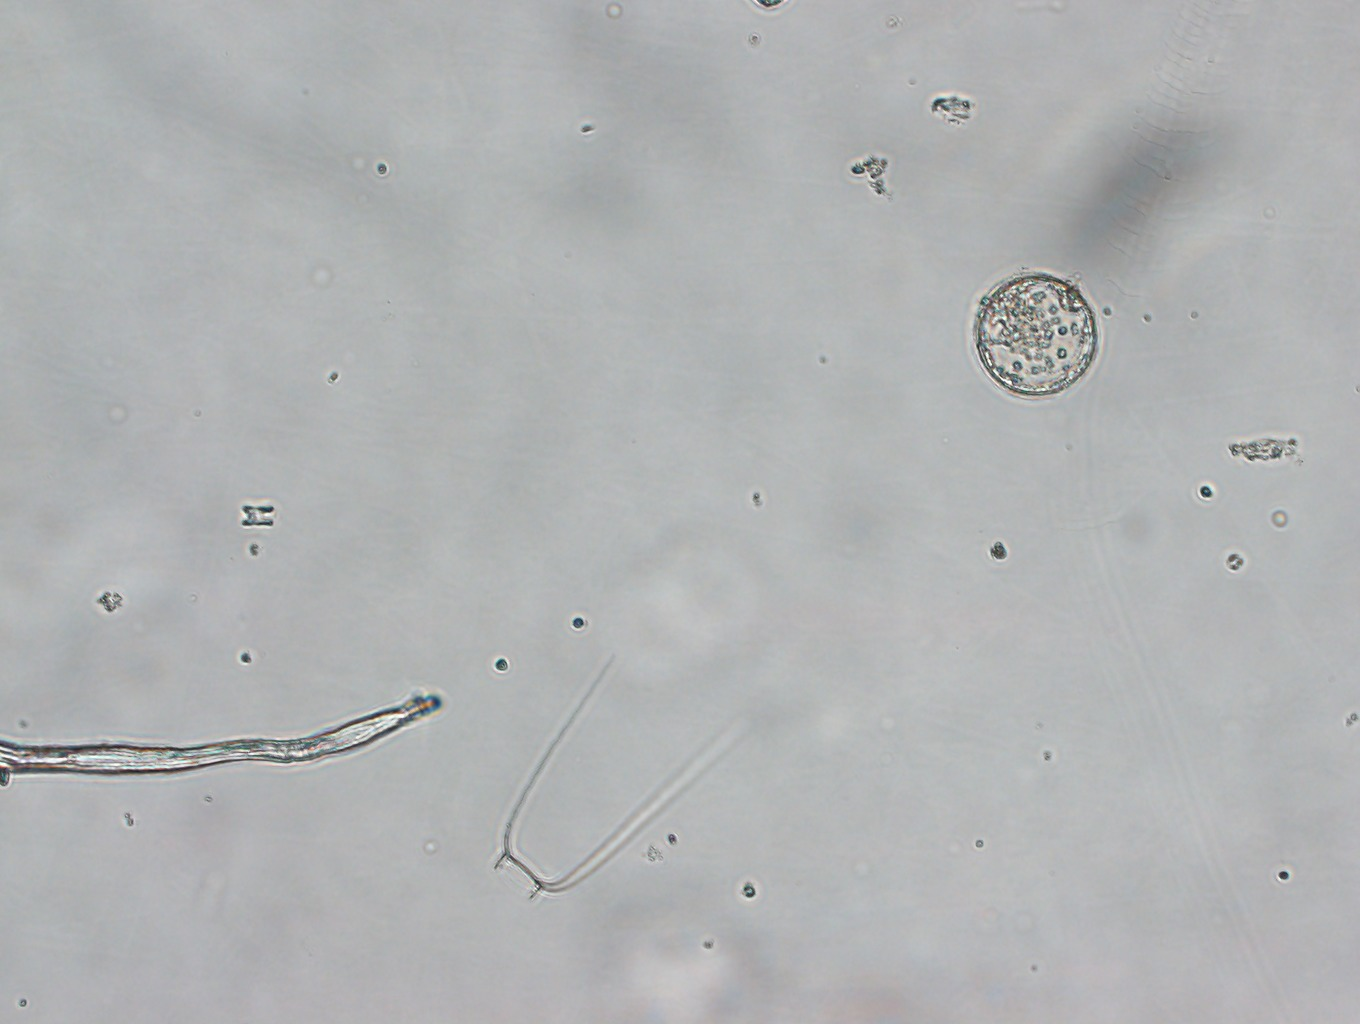chaetoceros: (489, 636, 738, 928)
coscinodiscus: (970, 260, 1110, 408)
